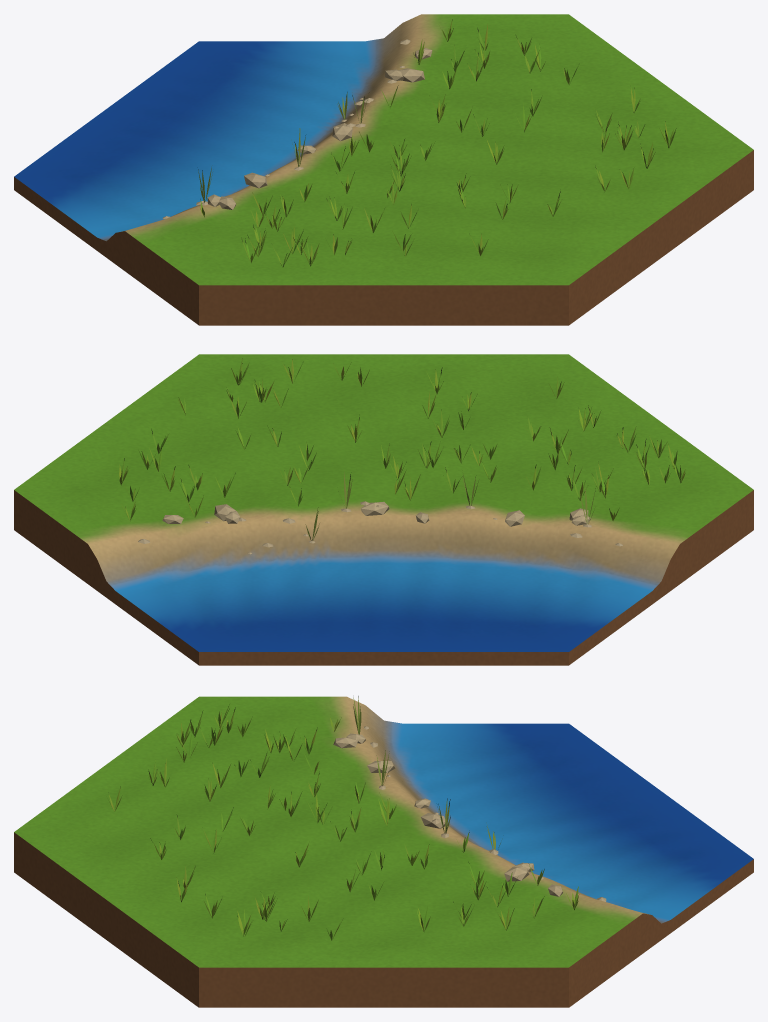
The model's file is SM_Agua_Bahia_Detalle_LOD0.fbx.
The picture shows the model from 3 angles, top to bottom: view 1: azimuth 30°, elevation 25°; view 2: azimuth 150°, elevation 25°; view 3: azimuth 270°, elevation 25°; orthographic projection.
Parts seen in each view (by area): view 1: SM_Agua_Bahia_Detalle_LOD0; view 2: SM_Agua_Bahia_Detalle_LOD0; view 3: SM_Agua_Bahia_Detalle_LOD0.
Part boxes in pixels (x1,y1,x2,y2): SM_Agua_Bahia_Detalle_LOD0: (14, 14, 753, 325); SM_Agua_Bahia_Detalle_LOD0: (14, 354, 753, 665); SM_Agua_Bahia_Detalle_LOD0: (14, 696, 753, 1007).
Bounding box in the file's own units: 1.73 × 0.2474 × 2.
Materials: 1 (1 with a texture image).
